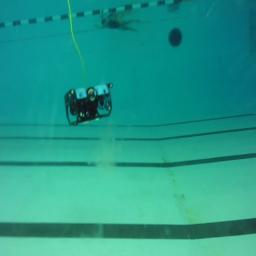front: (64, 81, 114, 126)
